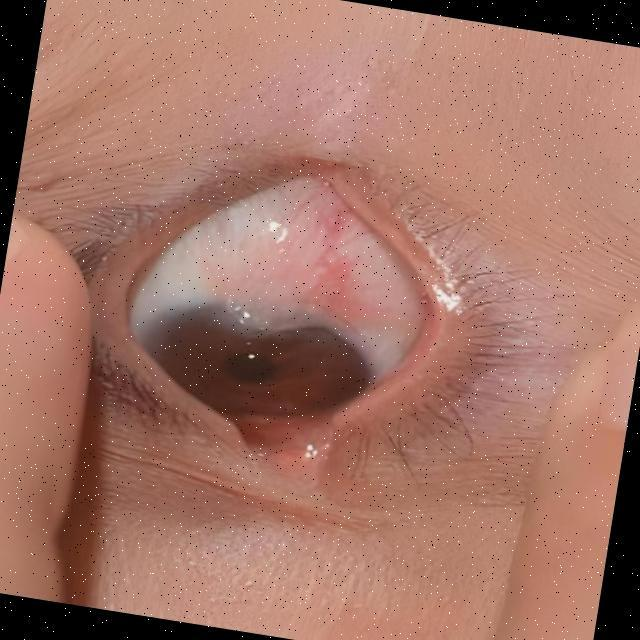Pterygium: (174, 160, 442, 372)
